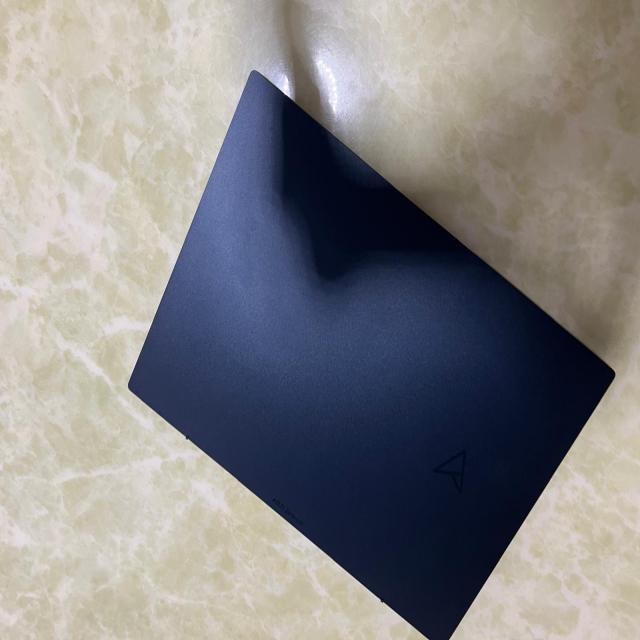laptop: (126, 68, 616, 638)
